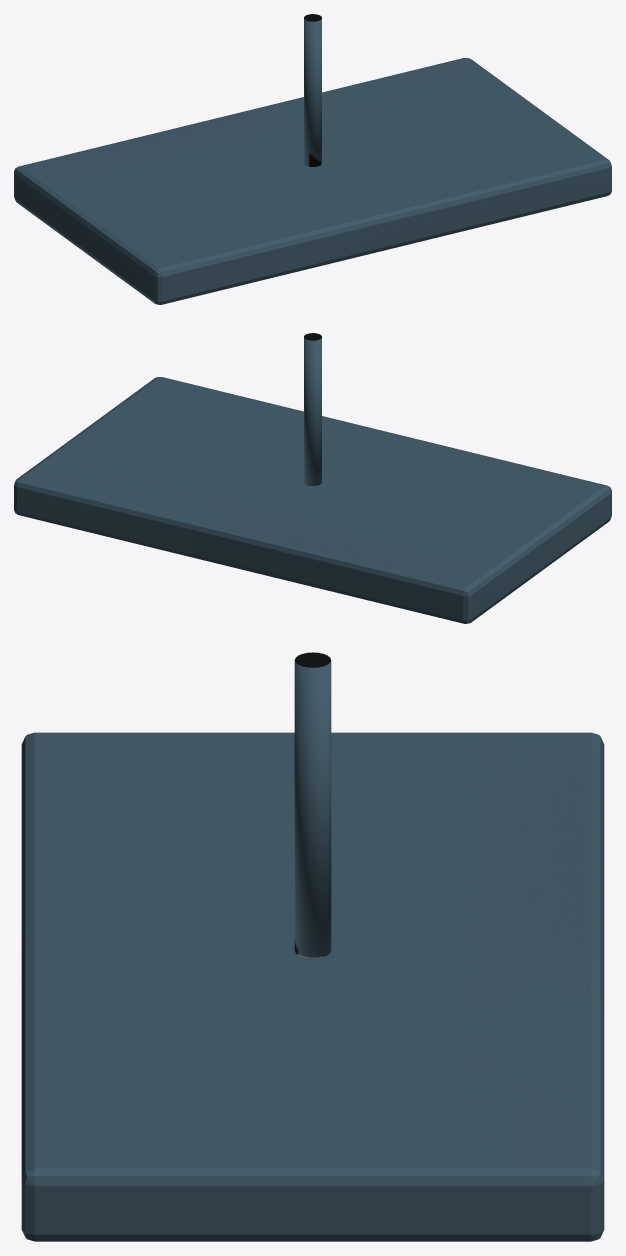
The picture shows the model from 3 angles, top to bottom: view 1: azimuth 30°, elevation 25°; view 2: azimuth 150°, elevation 25°; view 3: azimuth 270°, elevation 25°; orthographic projection. The views are drawn at different scales.
Bounding box in the file's own units: 1.45 × 0.55 × 0.8.
Materials: 1 (1 with a texture image).
